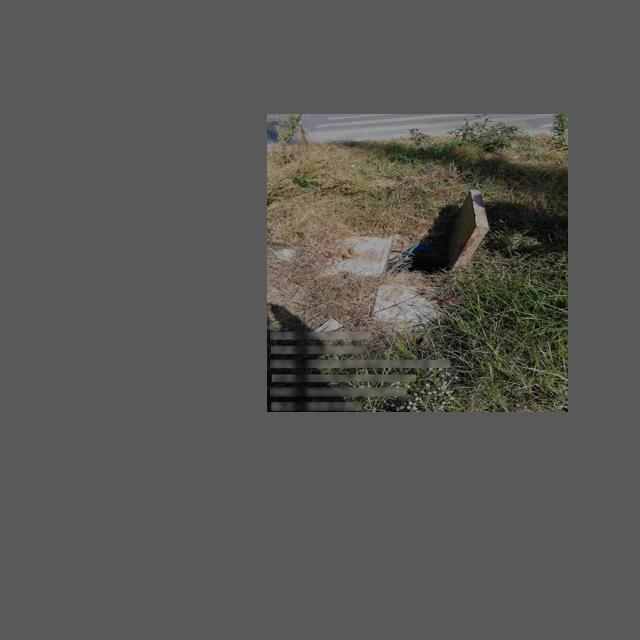uncovered: (315, 189, 490, 274)
